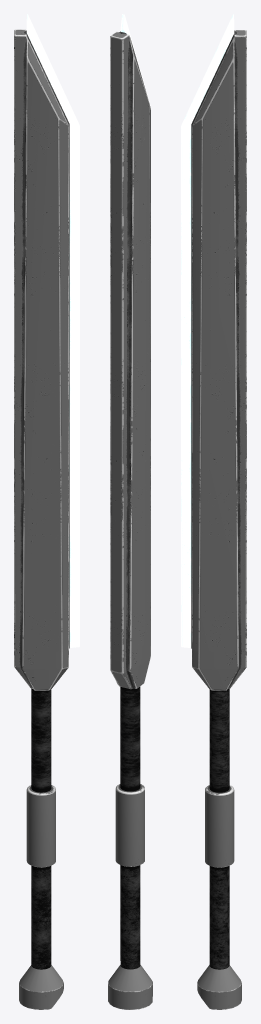
The model's file is Sword.glb.
3 views of the same model, side by side, from view 1: azimuth 90°, elevation 25°; view 2: azimuth 150°, elevation 25°; view 3: azimuth 270°, elevation 25° (orthographic).
Visible parts, largest first — view 1: sword_balde1; view 2: sword_balde1; view 3: sword_balde1.
Part boxes in pixels (x1,y1,x2,y2): sword_balde1: (14, 14, 79, 1009); sword_balde1: (108, 14, 152, 1009); sword_balde1: (181, 14, 246, 1009).
Bounding box in the file's own units: 14.11 × 343 × 20.74.
Materials: 1 (1 with a texture image).
